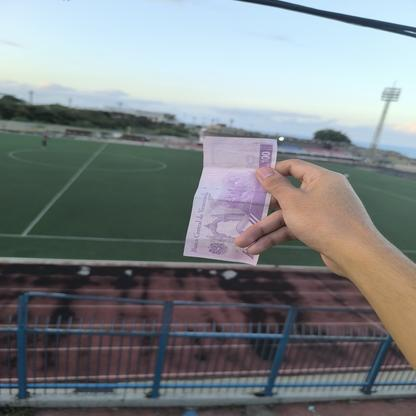one_hundred-back-vef: (181, 134, 278, 266)
